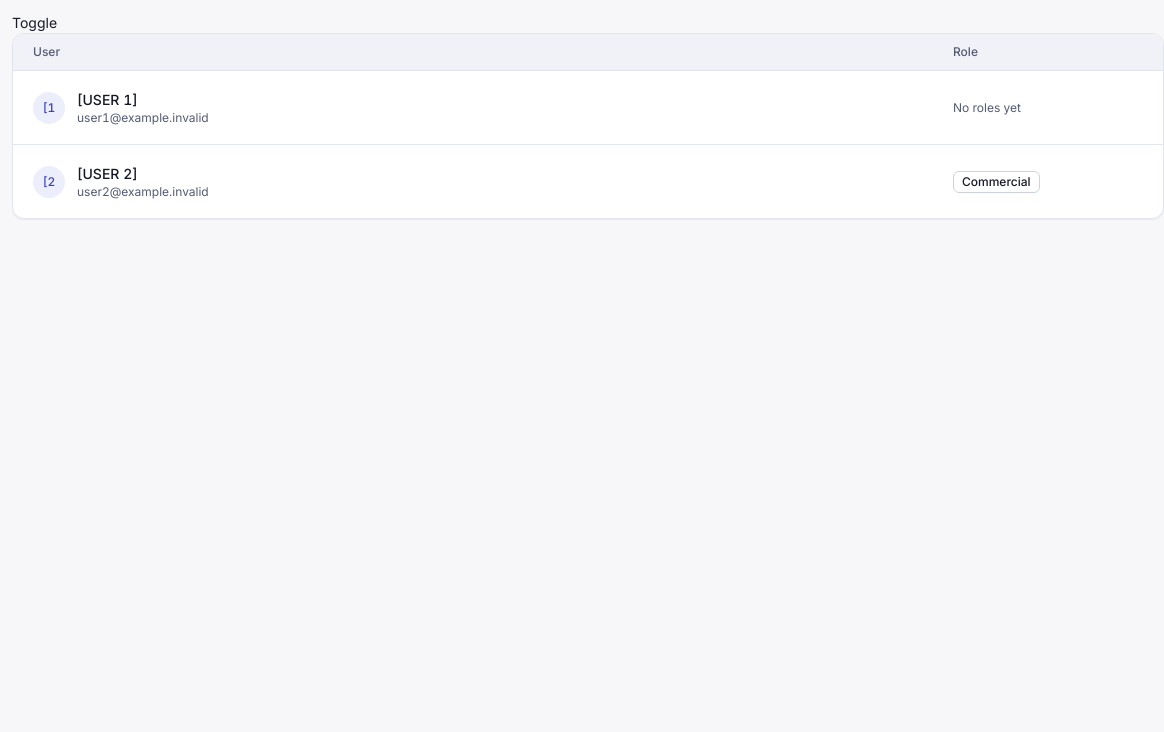
Test: UsersAdmin › Enter opens the inspector and moves focus into it; closing returns focus to the row
Press Tab
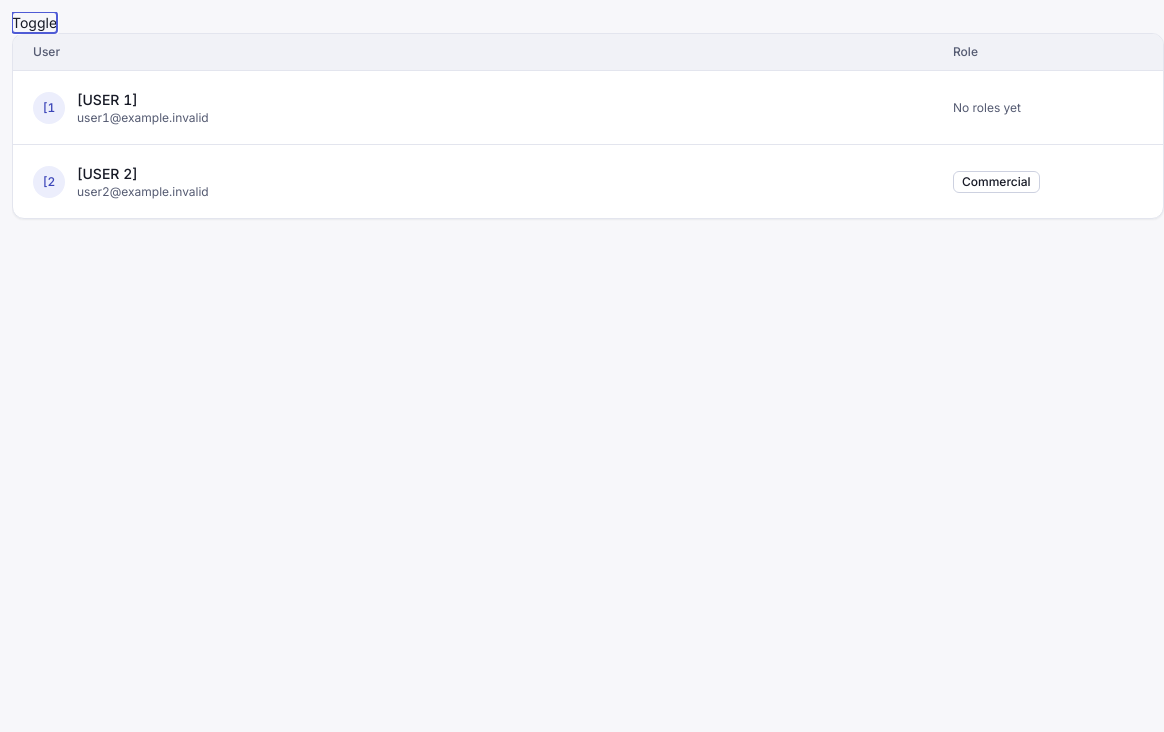
Press Tab
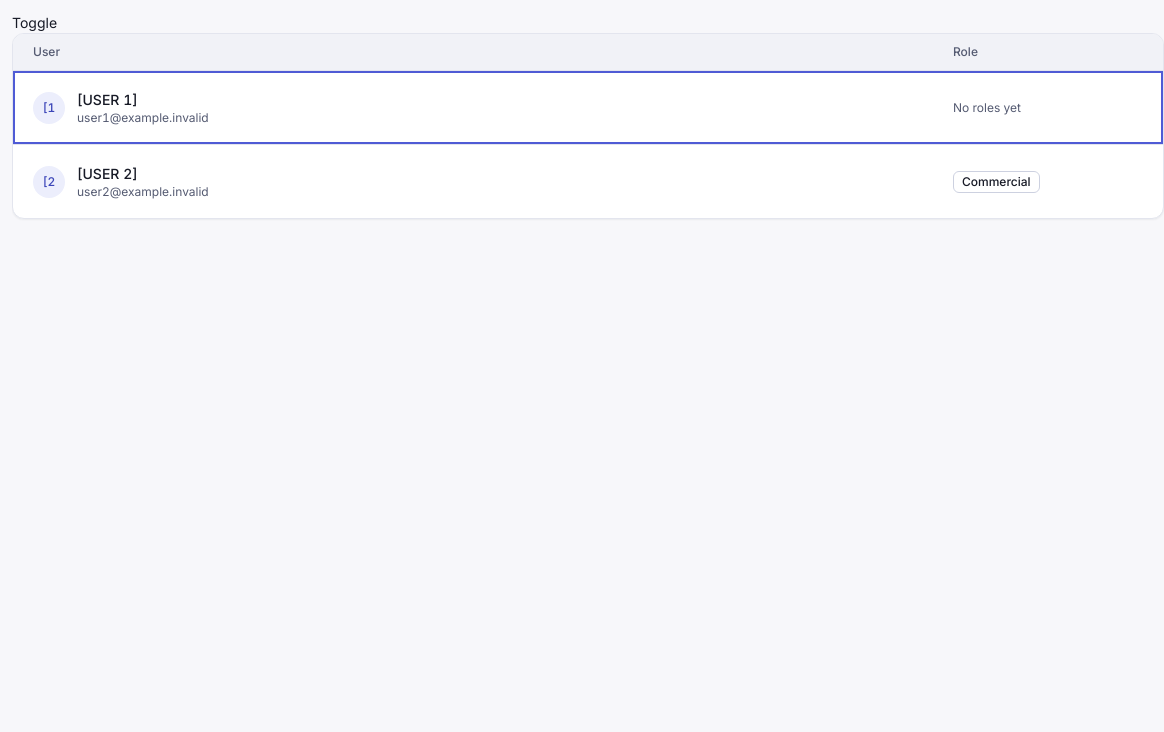
Type keys "j{Enter}"
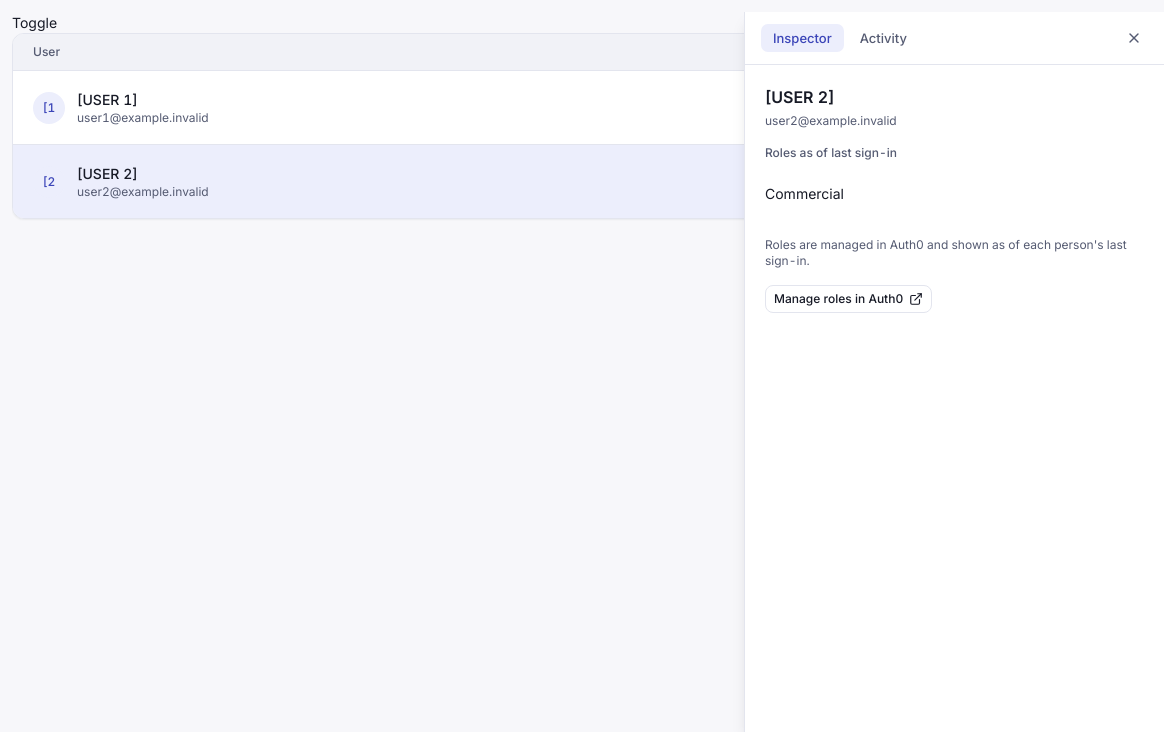
Click the button named "Close right pane".
click(1134, 38)  # box [1120,24,1148,52]
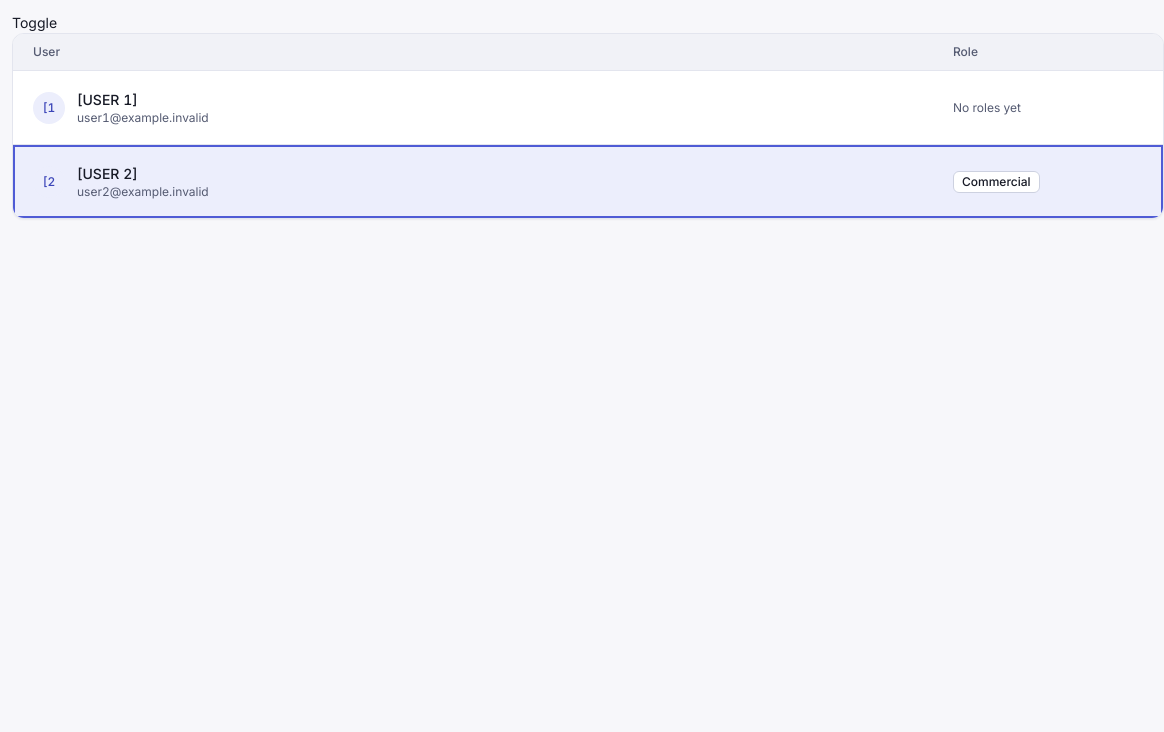
Expected: the element "Details" is gone
